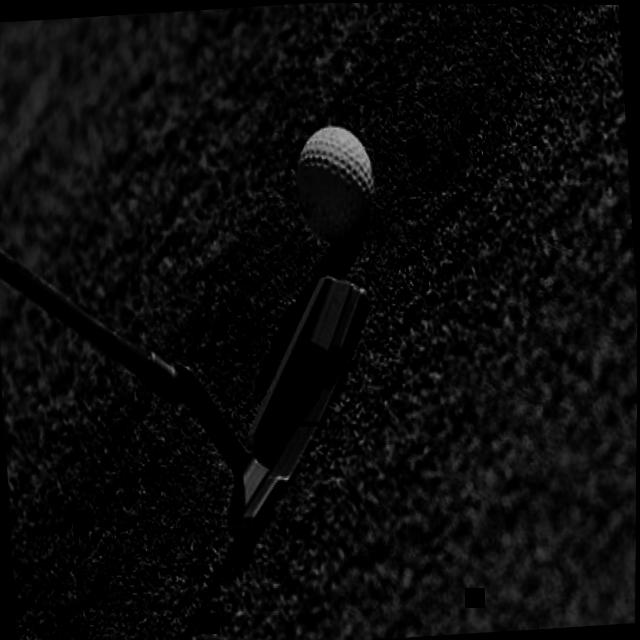golf ball: (285, 108, 388, 254)
